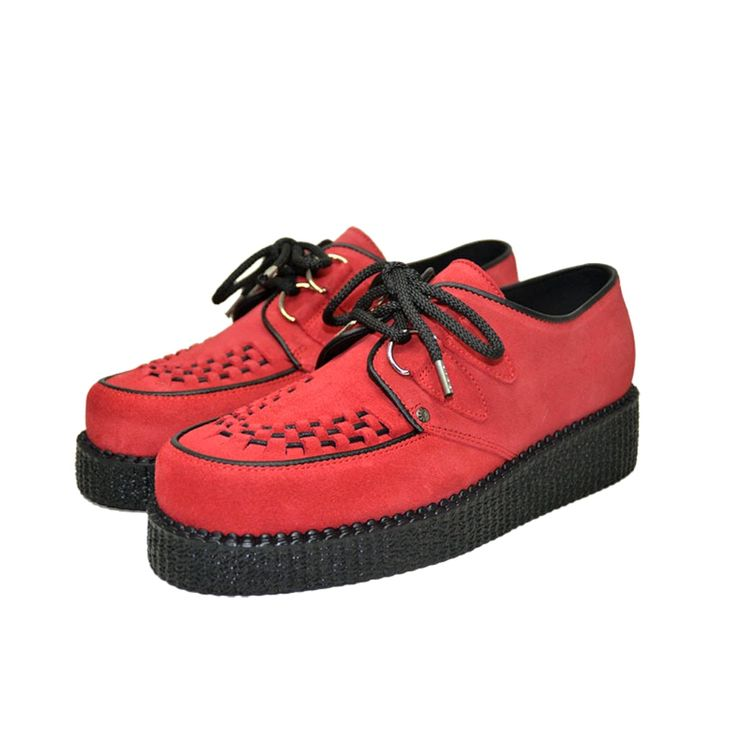gamuza: (85, 229, 637, 533)
